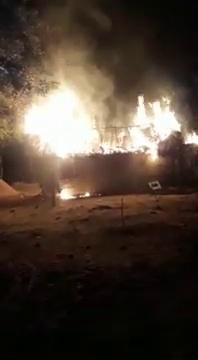fire: (38, 107, 92, 157), (132, 105, 168, 150)
